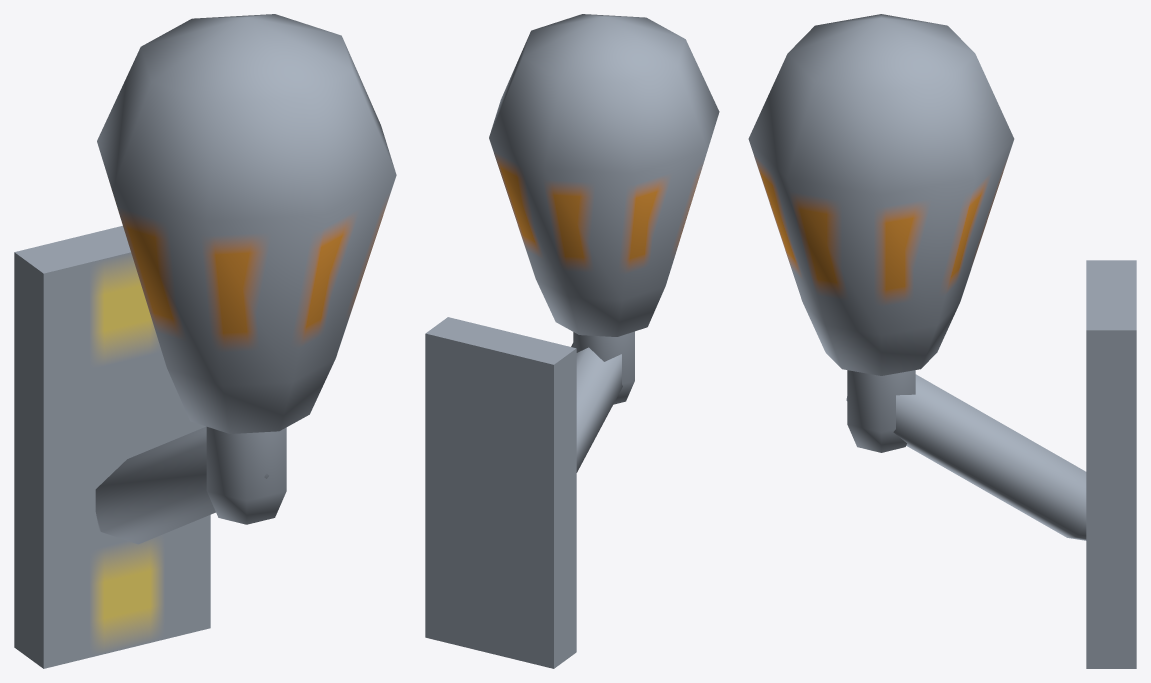
Rendered from prop_torchl_3a97.glb.
3 views of the same model, side by side, from view 1: azimuth 30°, elevation 25°; view 2: azimuth 150°, elevation 25°; view 3: azimuth 270°, elevation 25° (orthographic). The views are drawn at different scales.
Parts seen in each view (by area): view 1: prop_torchl_3a97; view 2: prop_torchl_3a97; view 3: prop_torchl_3a97.
Part boxes in pixels (x1,y1,x2,y2): prop_torchl_3a97: [14, 14, 396, 668]; prop_torchl_3a97: [425, 14, 719, 668]; prop_torchl_3a97: [748, 14, 1136, 668].
Size of the model in its own units: 0.327 by 0.8353 by 0.4772.
Materials: 1 (1 with a texture image).
